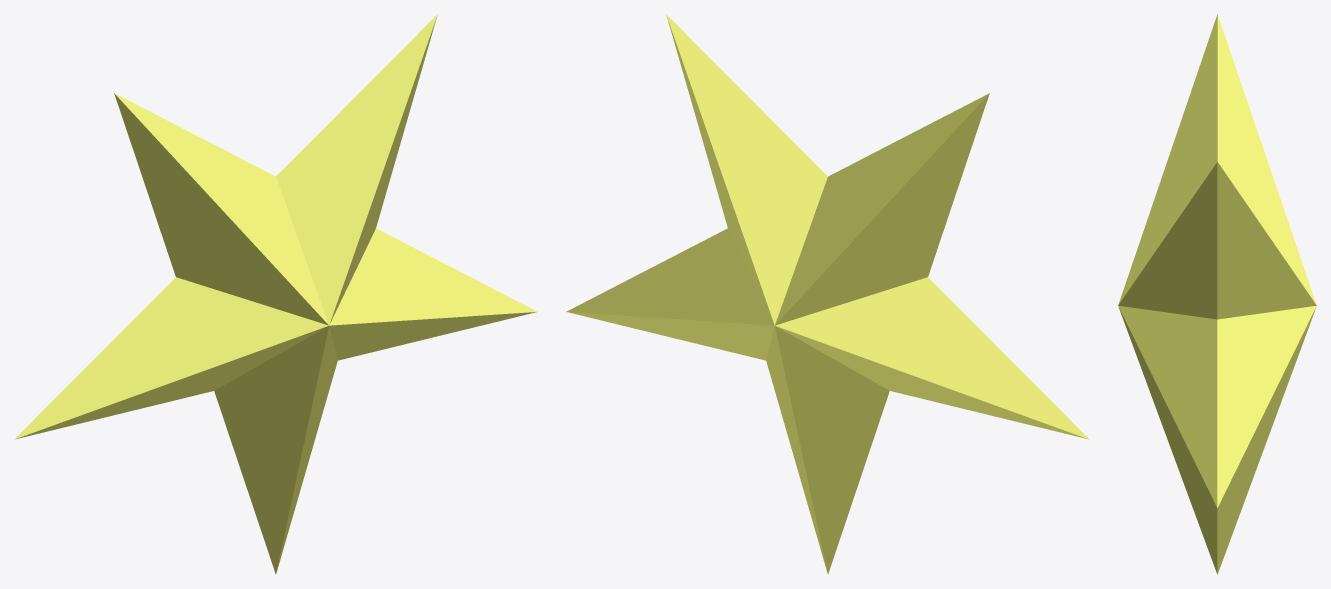
The model's file is MagicWand.fbx.
3 views of the same model, side by side, from view 1: azimuth 30°, elevation 25°; view 2: azimuth 150°, elevation 25°; view 3: azimuth 270°, elevation 25° (orthographic). The views are drawn at different scales.
Visible parts, largest first — view 1: Group1; view 2: Group1; view 3: Group1.
Part boxes in pixels (box(x1,y1,x2,y2)): Group1: box(14, 14, 537, 574); Group1: box(566, 14, 1089, 574); Group1: box(1118, 14, 1316, 574).
Bounding box in the file's own units: 0.8814 × 0.8382 × 0.31.
